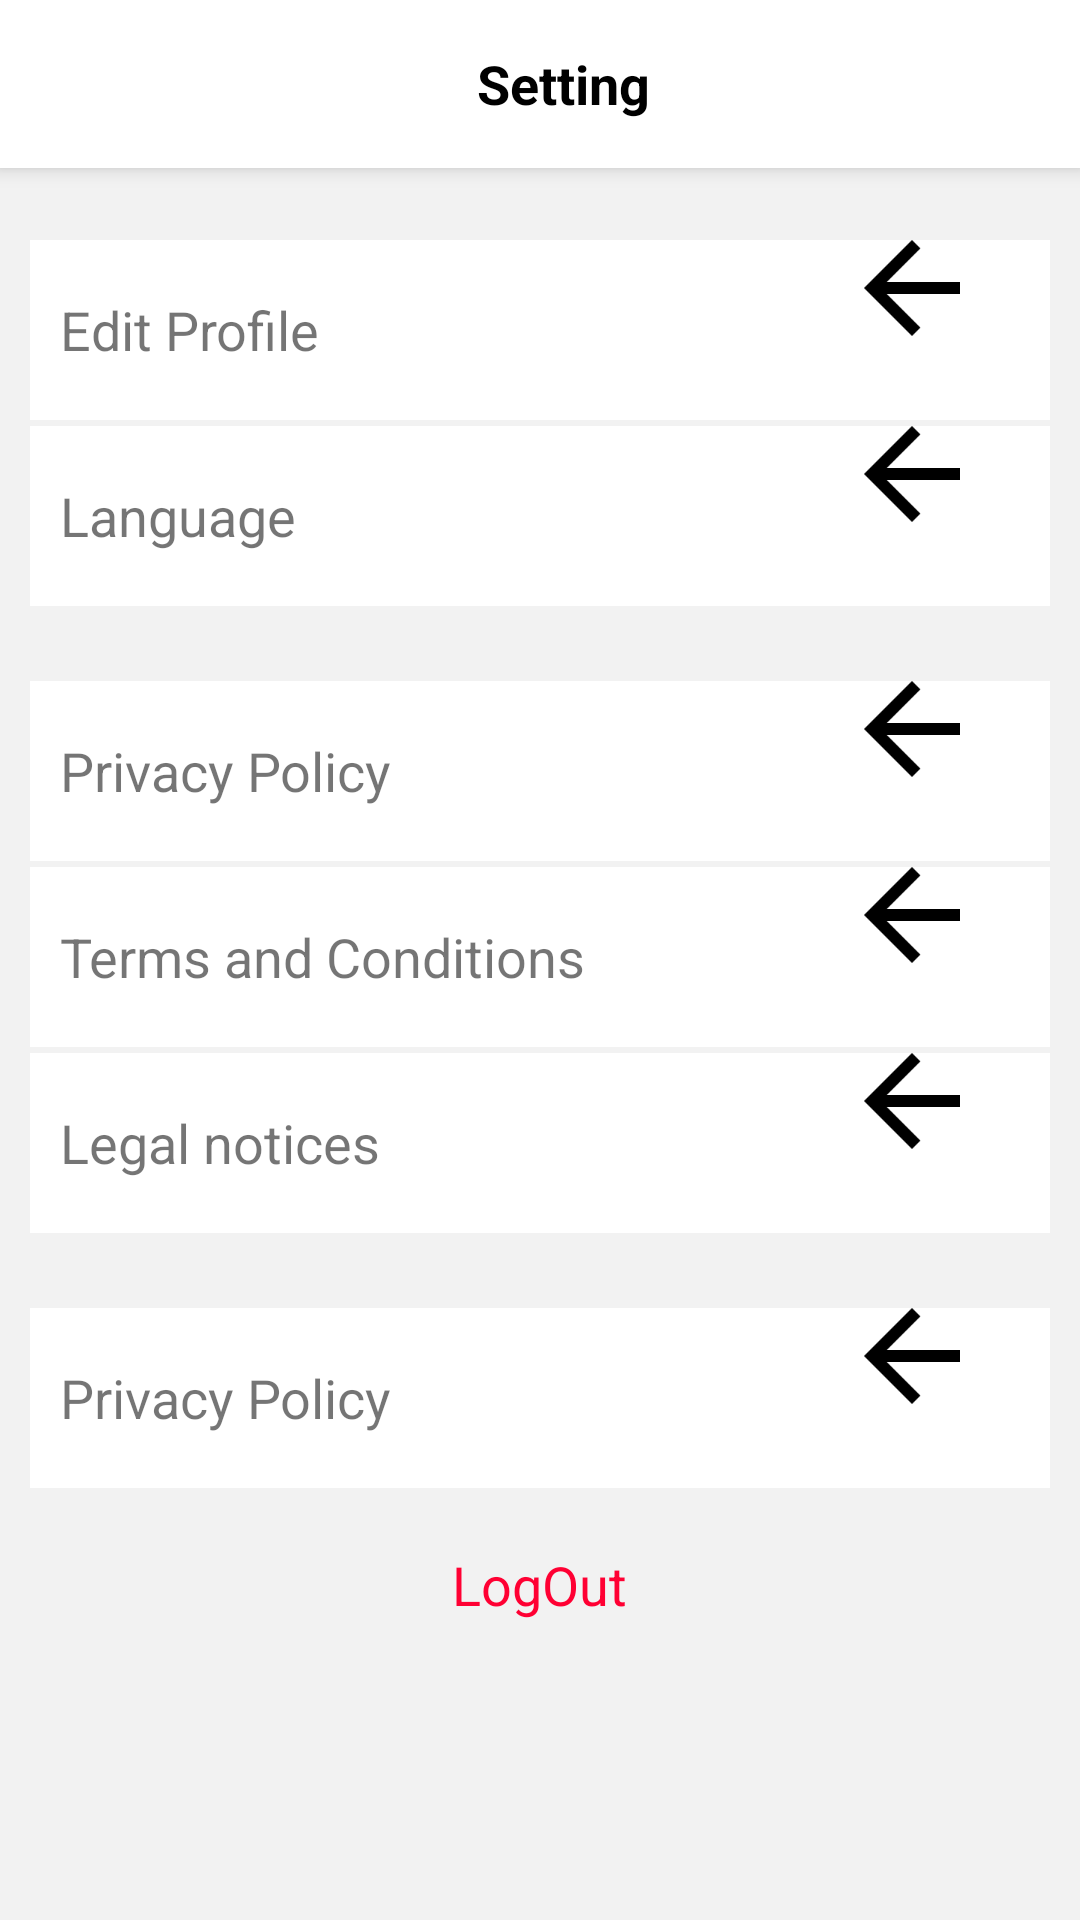

Named icons in this screenshot (1080x1920) and their bounding boxes, (x1, y1, x2, y2):
back arrow: (864, 240, 960, 336), (864, 426, 960, 522), (864, 681, 960, 777), (864, 867, 960, 963), (864, 1053, 960, 1149), (864, 1308, 960, 1404)
